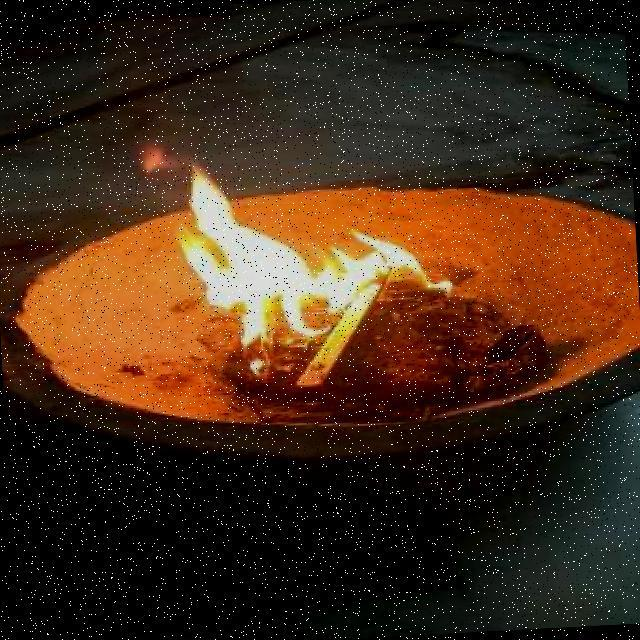Fire: (138, 113, 456, 367)
